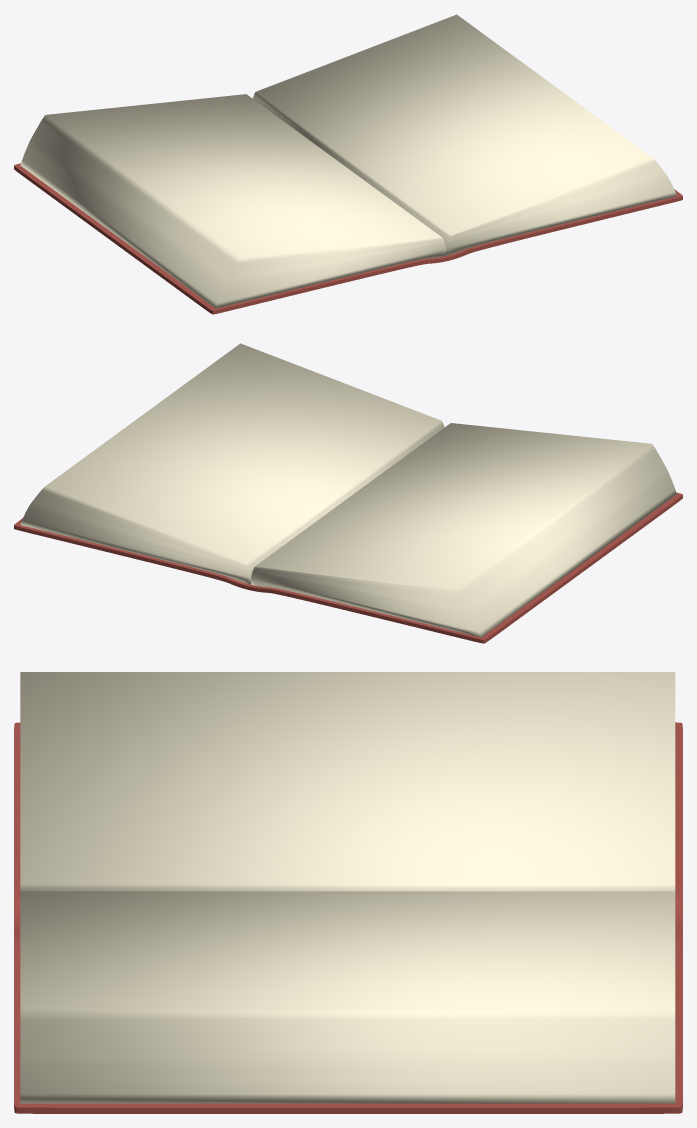
Rendered from open_book.glb.
3 views of the same model, one above another, from view 1: azimuth 30°, elevation 25°; view 2: azimuth 150°, elevation 25°; view 3: azimuth 270°, elevation 25° (orthographic). The views are drawn at different scales.
Visible parts, largest first — view 1: Plane.001; view 2: Plane.001; view 3: Plane.001.
Boxes of the visible parts, x1,y1,x2,y2 form: Plane.001: (14, 14, 682, 314); Plane.001: (14, 343, 682, 643); Plane.001: (14, 672, 682, 1113).
Size of the model in its own units: 2.73 by 0.2855 by 2.
